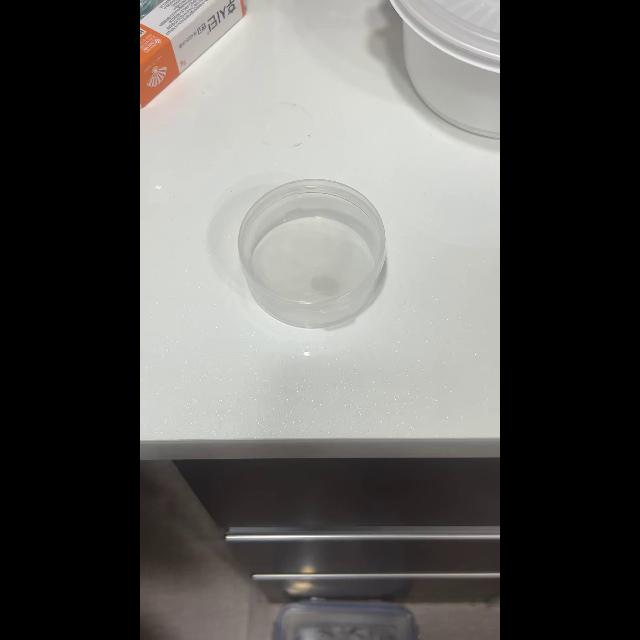clean: (243, 178, 387, 328)
